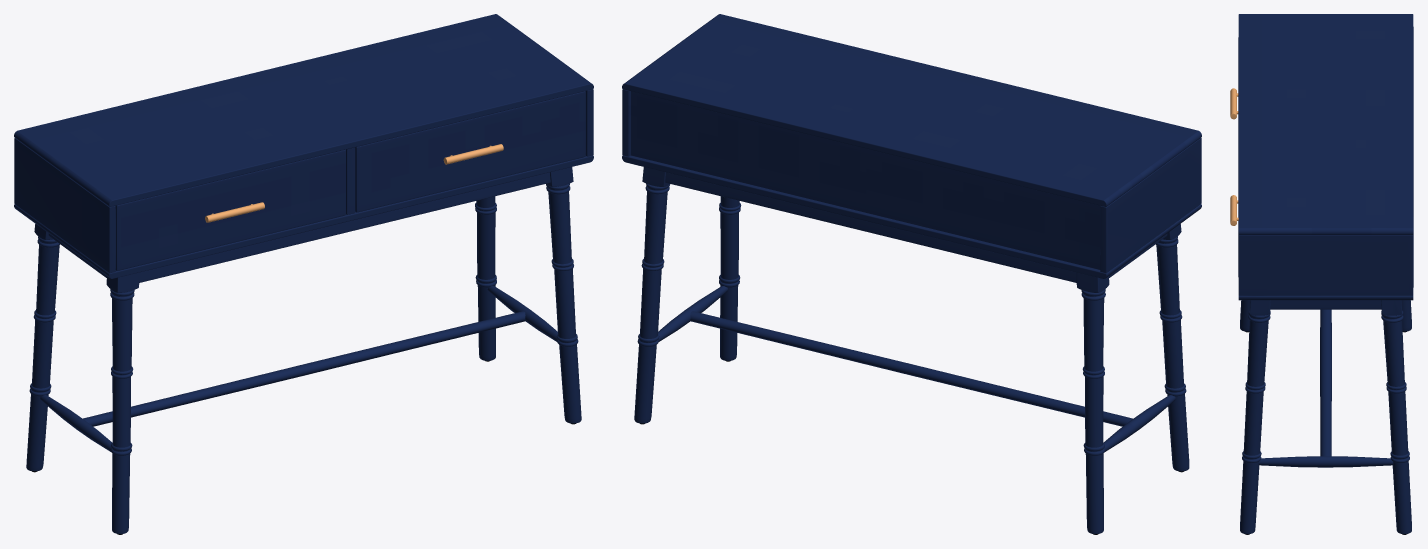
The model's file is abo-B084MM451K.glb.
3 renders of one model, left to right at view 1: azimuth 30°, elevation 25°; view 2: azimuth 150°, elevation 25°; view 3: azimuth 270°, elevation 25°, orthographic. The views are drawn at different scales.
Size of the model in its own units: 1.12 by 0.749 by 0.3989.
1 material, 1 textured.
